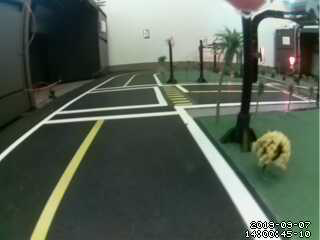Stop_Sign: (222, 1, 276, 14)
